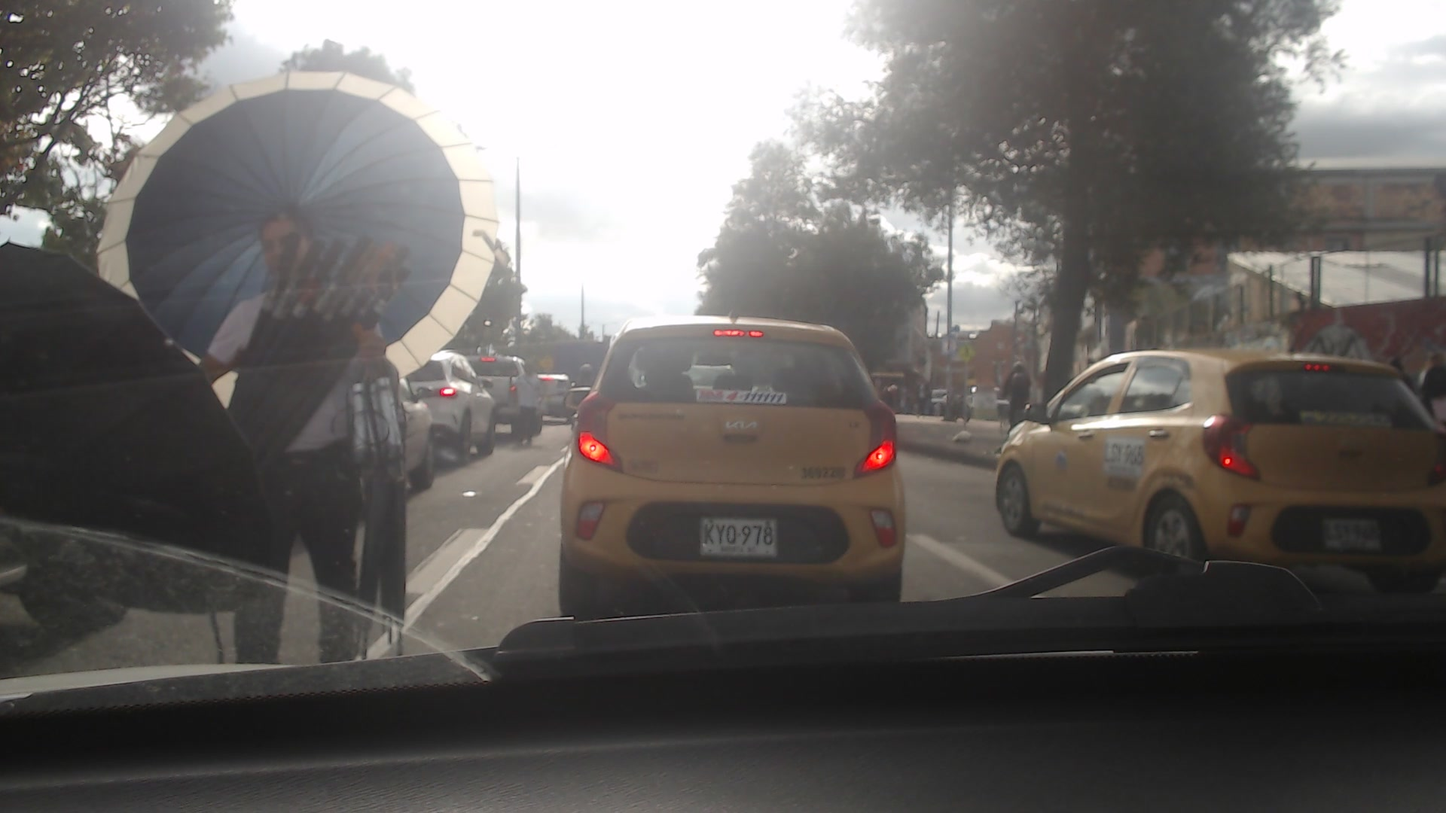car: (994, 349, 1442, 592), (559, 313, 916, 606), (390, 349, 511, 470)
person: (206, 190, 392, 679), (513, 360, 547, 459), (1006, 357, 1030, 423)
